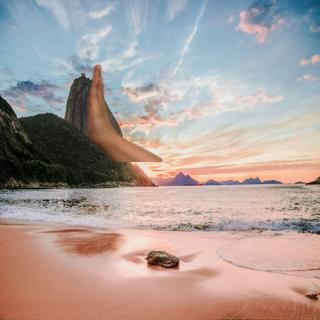RIGHT: (79, 57, 119, 148)
